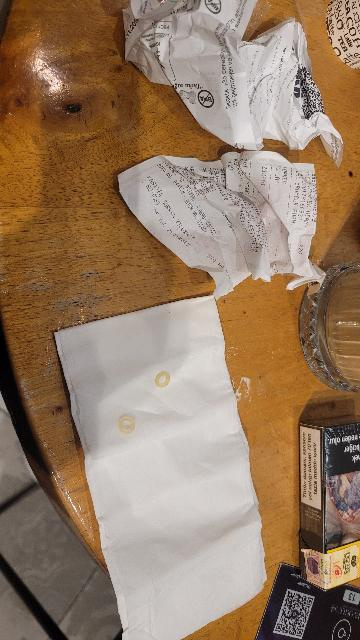Kagit: (56, 299, 268, 640), (125, 0, 344, 155), (119, 156, 328, 300), (295, 420, 360, 591)
Plastik: (117, 413, 136, 436), (152, 369, 172, 388)
